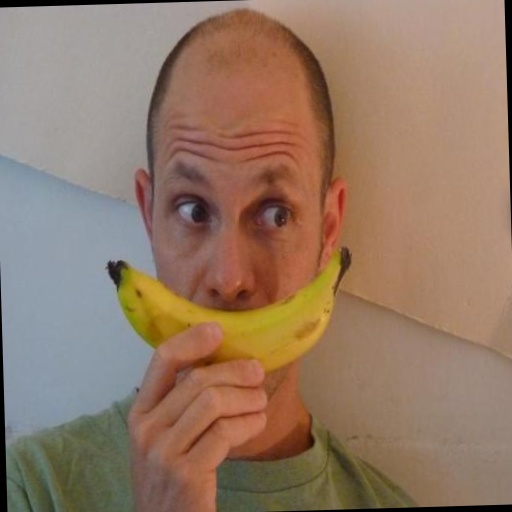fruit: (54, 138, 178, 431)
